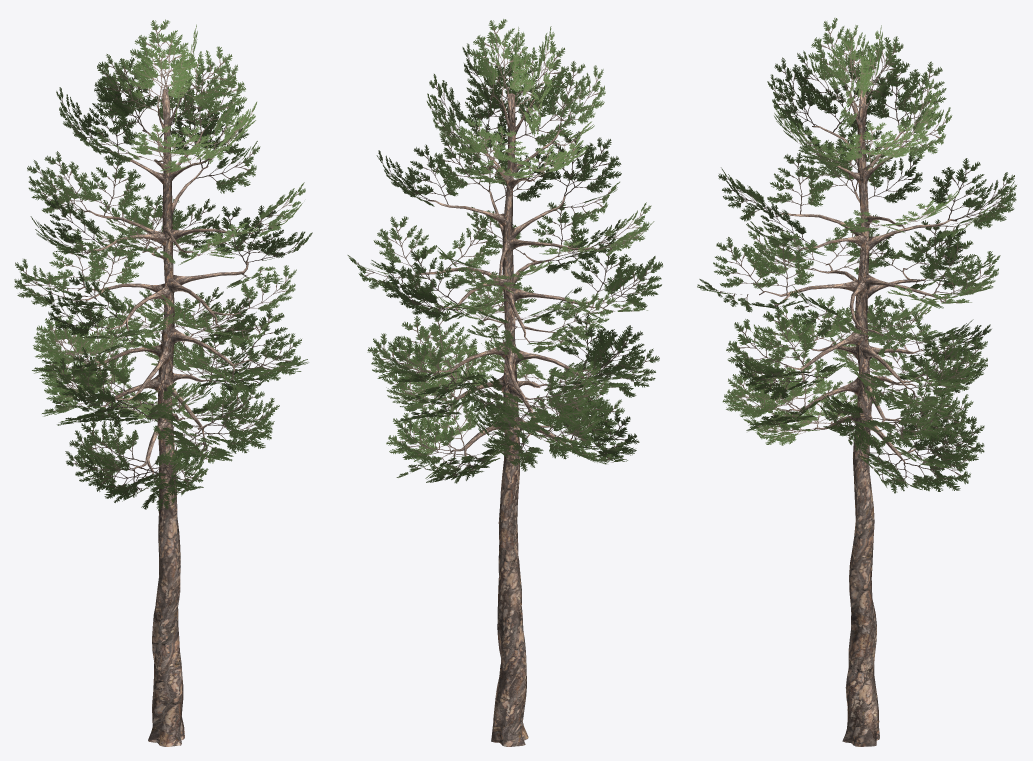
File: tree-pine.glb
3 views of the same model, side by side, from view 1: azimuth 30°, elevation 25°; view 2: azimuth 150°, elevation 25°; view 3: azimuth 270°, elevation 25° (orthographic).
Visible parts, largest first — view 1: Tree_1_Tree_1Mat_0, Tree_0_Tree_0Mat_0; view 2: Tree_1_Tree_1Mat_0, Tree_0_Tree_0Mat_0; view 3: Tree_1_Tree_1Mat_0, Tree_0_Tree_0Mat_0.
Boxes of the visible parts, box(x1,y1,x2,y2) form: Tree_1_Tree_1Mat_0: box(14, 19, 312, 510); Tree_0_Tree_0Mat_0: box(77, 88, 253, 746); Tree_1_Tree_1Mat_0: box(347, 19, 662, 483); Tree_0_Tree_0Mat_0: box(411, 88, 604, 746); Tree_1_Tree_1Mat_0: box(697, 18, 1016, 493); Tree_0_Tree_0Mat_0: box(759, 88, 956, 746).
Bounding box in the file's own units: 2.18 × 5.32 × 2.17.
2 materials, 2 textured.
